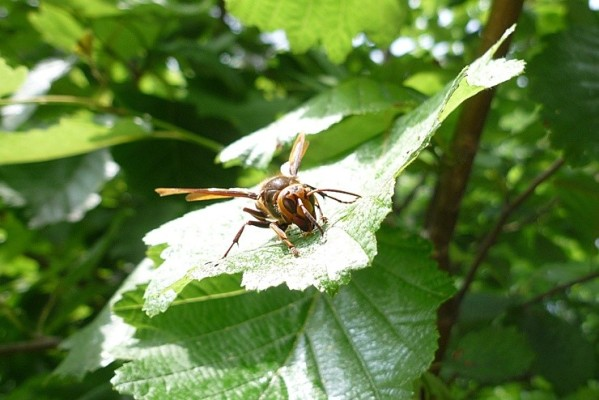asian_giant_hornet: (147, 122, 384, 263)
